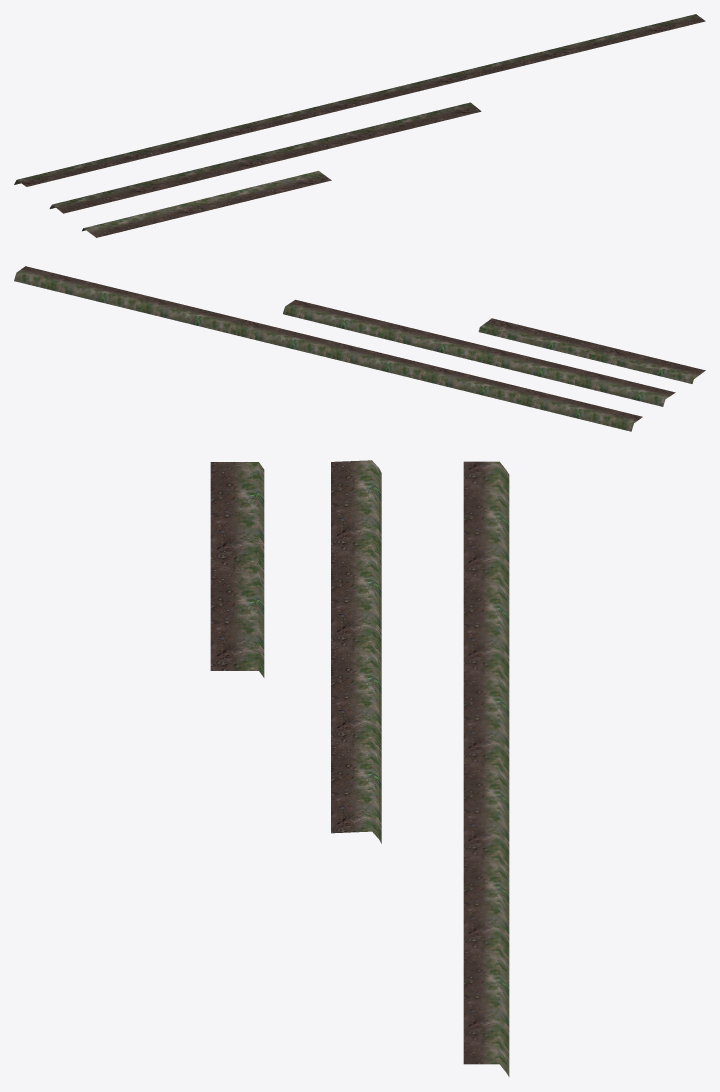
The model's file is transitions.fbx.
The picture shows the model from 3 angles, top to bottom: view 1: azimuth 30°, elevation 25°; view 2: azimuth 150°, elevation 25°; view 3: azimuth 270°, elevation 25°; orthographic projection. The views are drawn at different scales.
Parts seen in each view (by area): view 1: Plane001, Plane002, Plane003; view 2: Plane001, Plane002, Plane003; view 3: Plane001, Plane002, Plane003.
Part boxes in pixels (bbox=[...]): Plane001: bbox=[14, 14, 705, 186]; Plane002: bbox=[49, 102, 481, 213]; Plane003: bbox=[82, 171, 331, 237]; Plane001: bbox=[14, 266, 642, 431]; Plane002: bbox=[283, 299, 675, 406]; Plane003: bbox=[478, 318, 705, 383]; Plane001: bbox=[463, 461, 509, 1076]; Plane002: bbox=[331, 460, 381, 843]; Plane003: bbox=[210, 462, 264, 677].
Bounding box in the file's own units: 259 × 2.98 × 54.32.
Materials: 1 (1 with a texture image).
